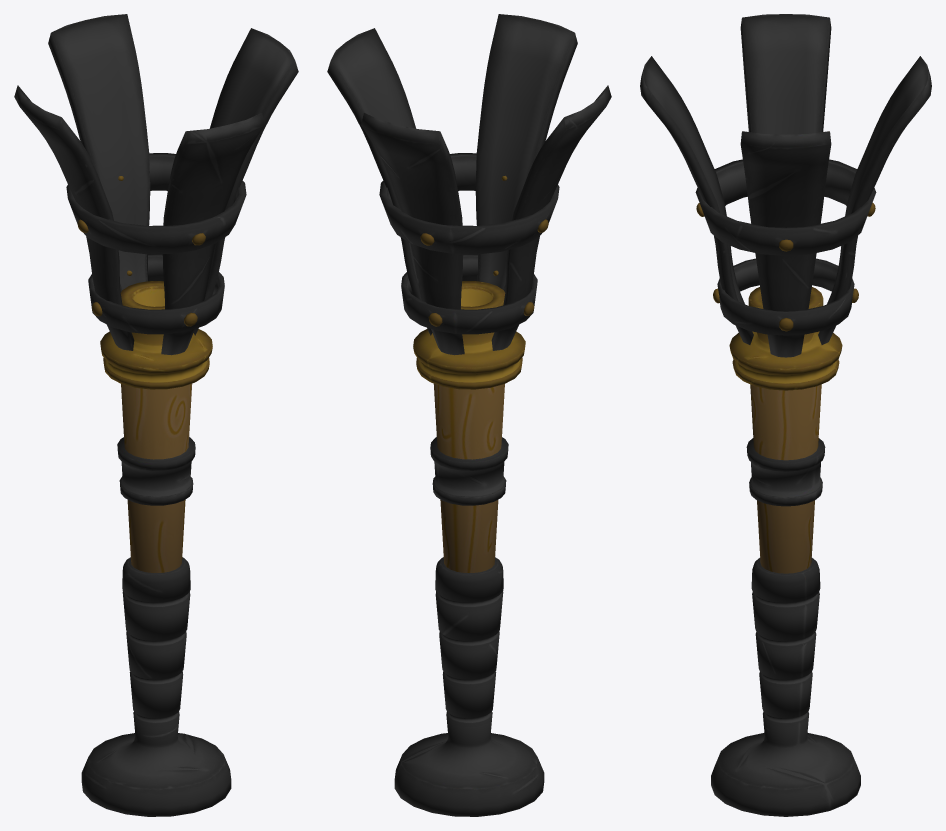
Rendered from antorcha.obj.
3 renders of one model, left to right at view 1: azimuth 30°, elevation 25°; view 2: azimuth 150°, elevation 25°; view 3: azimuth 270°, elevation 25°, orthographic.
Visible parts, largest first — view 1: Laminas_low__0, Base_low__0, Madera_low__0, Candelabro_low__0, Clavos_low__0; view 2: Laminas_low__0, Base_low__0, Madera_low__0, Candelabro_low__0, Clavos_low__0; view 3: Base_low__0, Laminas_low__0, Madera_low__0, Candelabro_low__0, Clavos_low__0.
Boxes of the visible parts, x1,y1,x2,y2 form: Laminas_low__0: [14, 14, 298, 355]; Base_low__0: [66, 153, 246, 816]; Madera_low__0: [121, 383, 192, 572]; Candelabro_low__0: [100, 281, 212, 389]; Clavos_low__0: [77, 176, 205, 326]; Laminas_low__0: [327, 14, 611, 355]; Base_low__0: [379, 153, 559, 816]; Madera_low__0: [433, 383, 504, 572]; Candelabro_low__0: [413, 281, 525, 389]; Clavos_low__0: [420, 175, 548, 326]; Base_low__0: [695, 159, 876, 816]; Laminas_low__0: [640, 14, 931, 357]; Madera_low__0: [750, 384, 821, 573]; Candelabro_low__0: [729, 287, 842, 390]; Clavos_low__0: [696, 202, 875, 331].
Bounding box in the file's own units: 0.7456 × 2 × 0.7456.
1 material, 1 textured.
